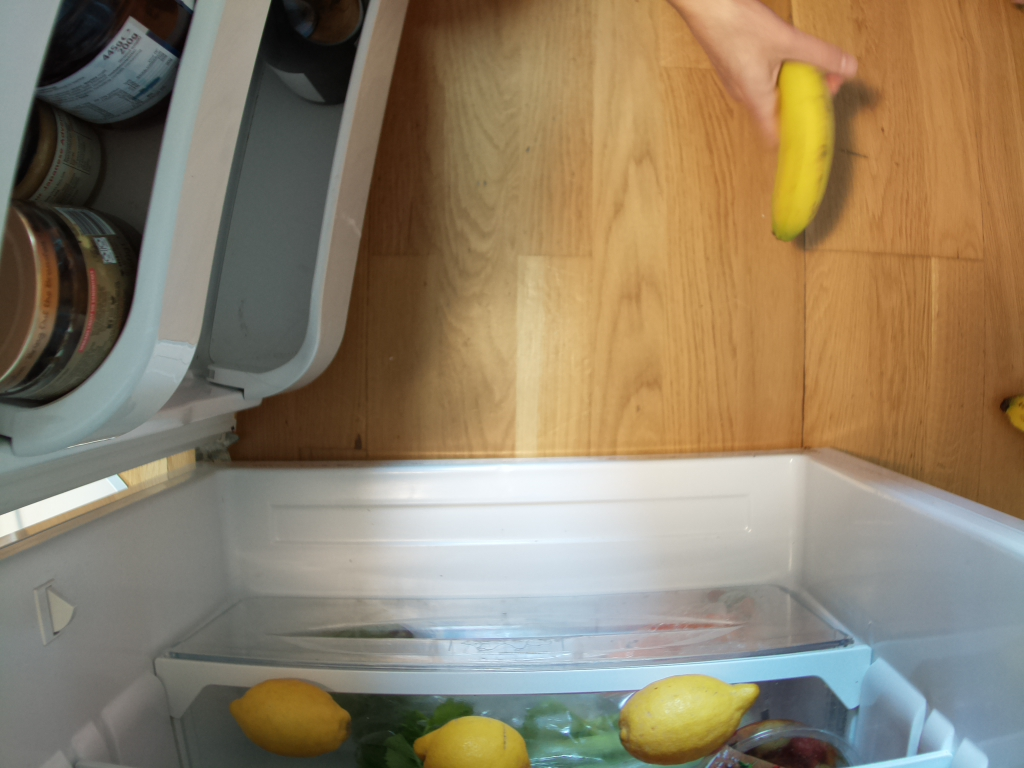banana: (761, 49, 845, 249)
